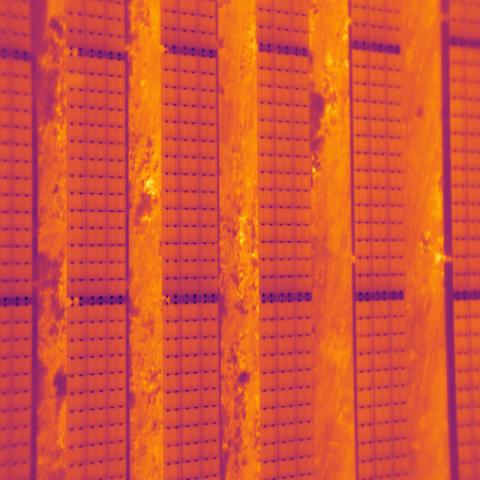fault: (64, 71, 88, 90)
